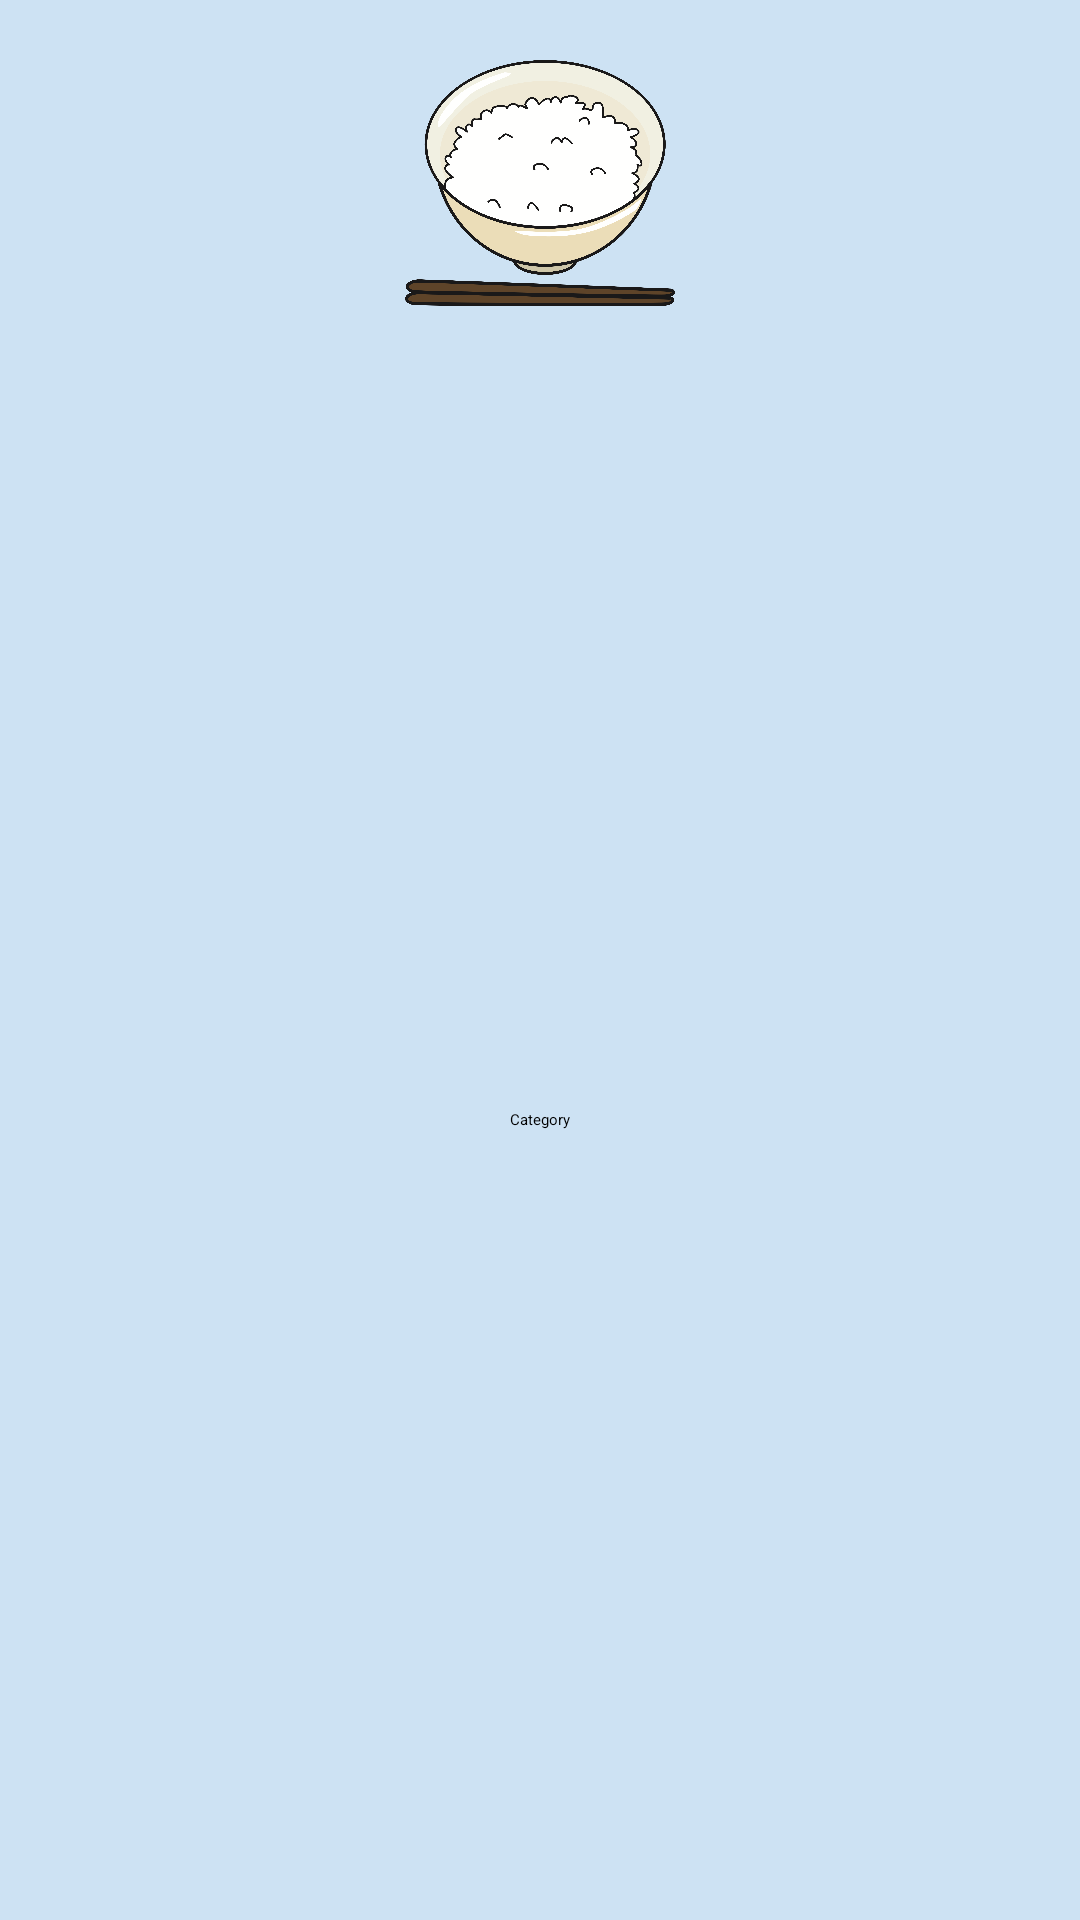

Screen size 1080px x 1920px. Icon name, then its center in pixels as [x,y]:
rice: [540,183]
